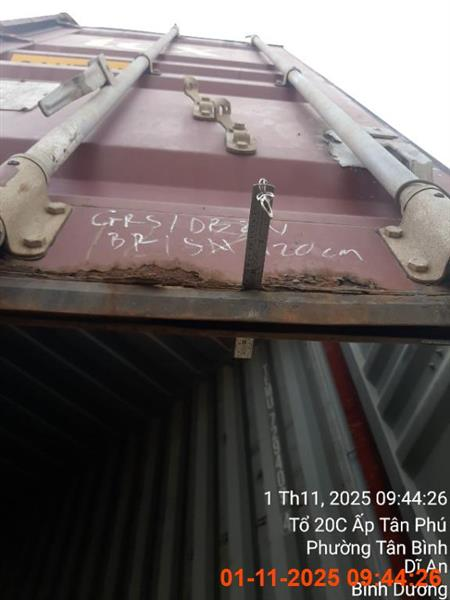hole: (0, 12, 449, 298)
